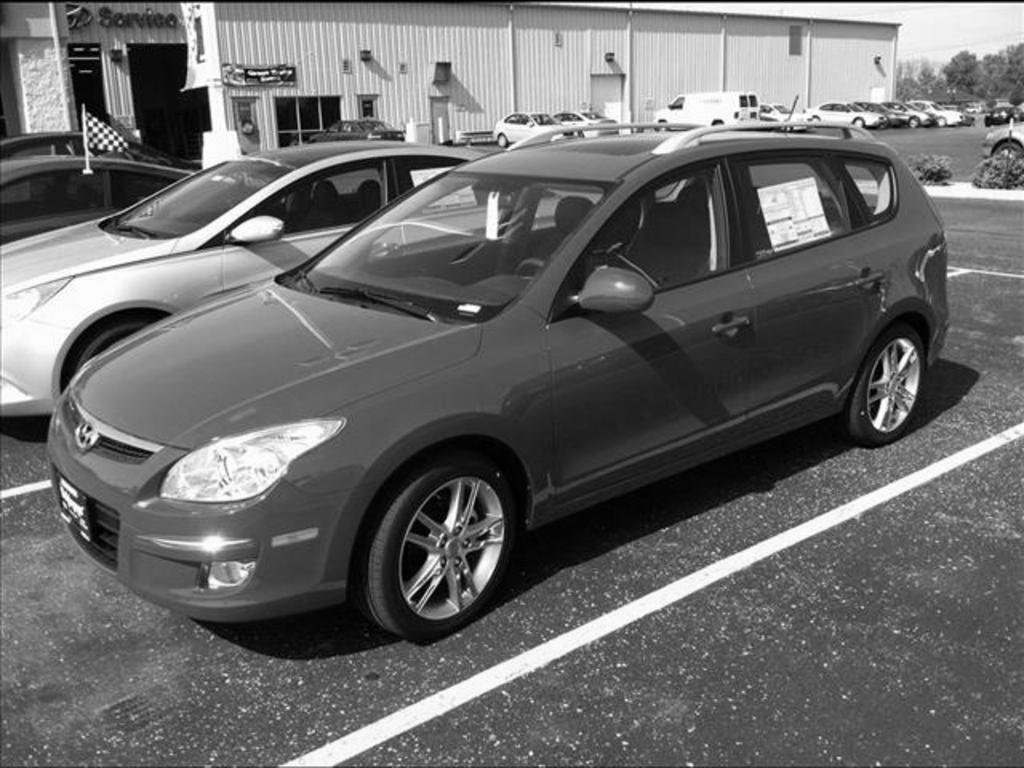car: (45, 120, 953, 642)
